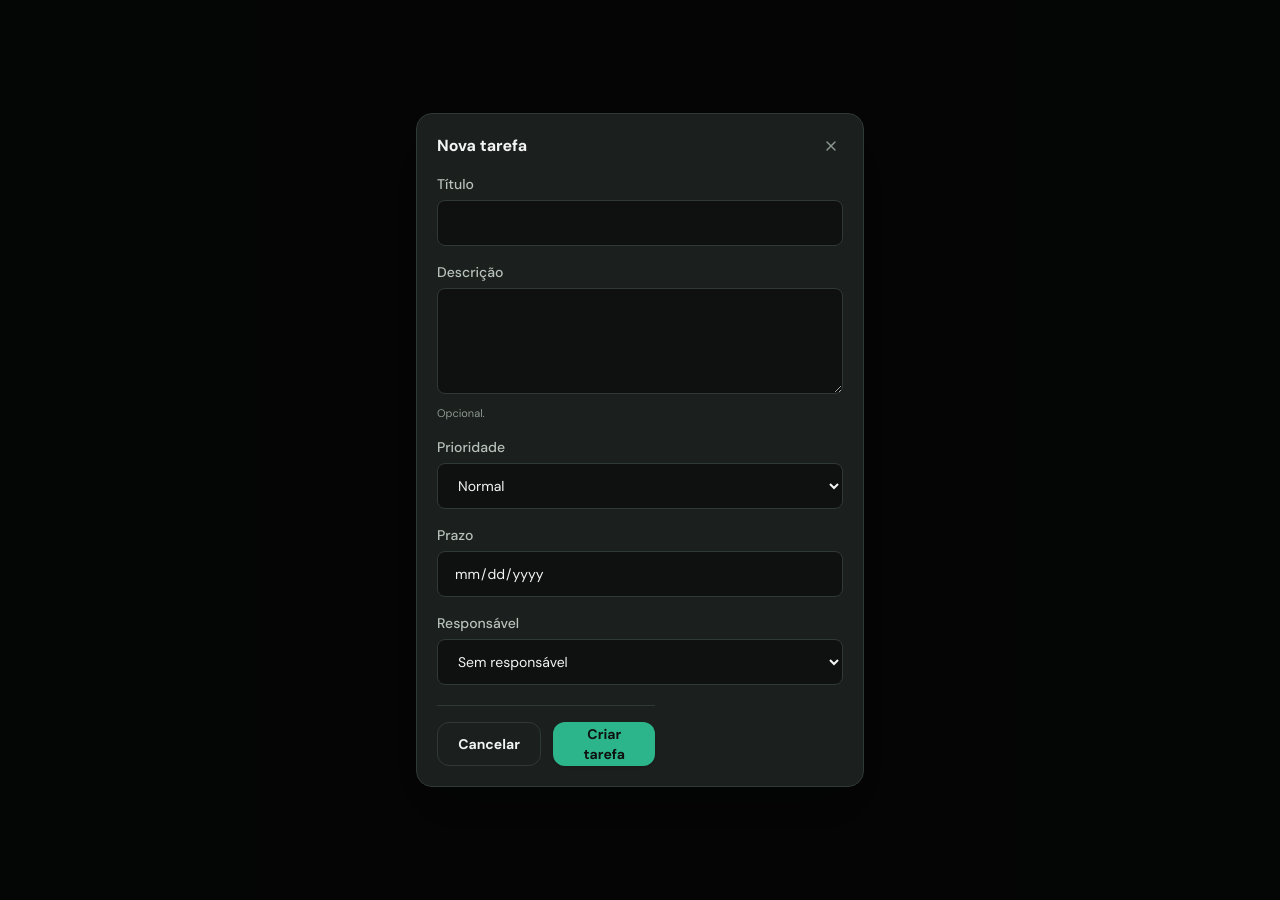
Test case: TaskFormDialog › mantém o formulário aberto e reporta erro da API
The image size is (1280, 900).
In the field labelled "Título": (640, 223) x1=437 y1=200 x2=843 y2=246, type "Tarefa"
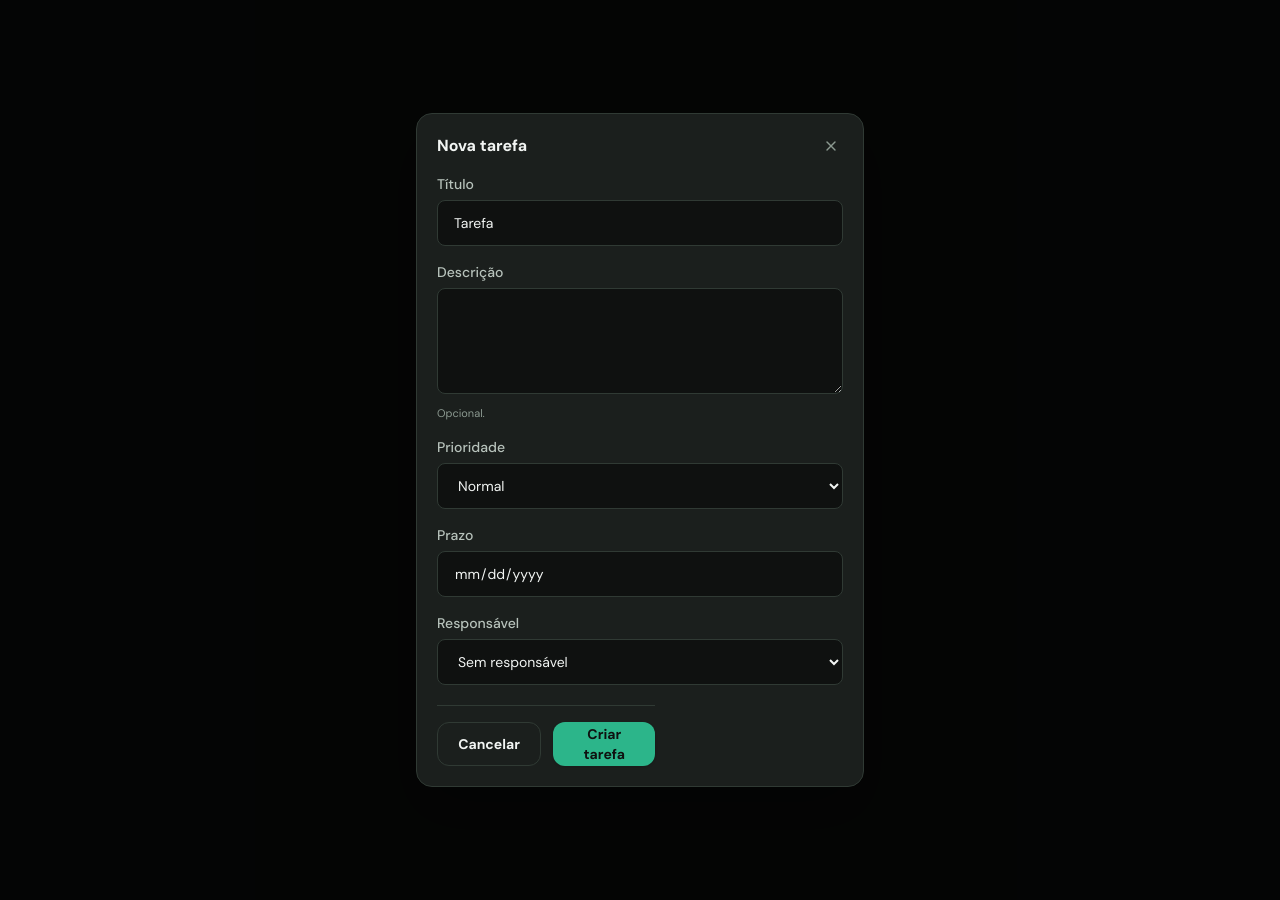
Click the button "Criar tarefa": (604, 744) x1=553 y1=722 x2=655 y2=766
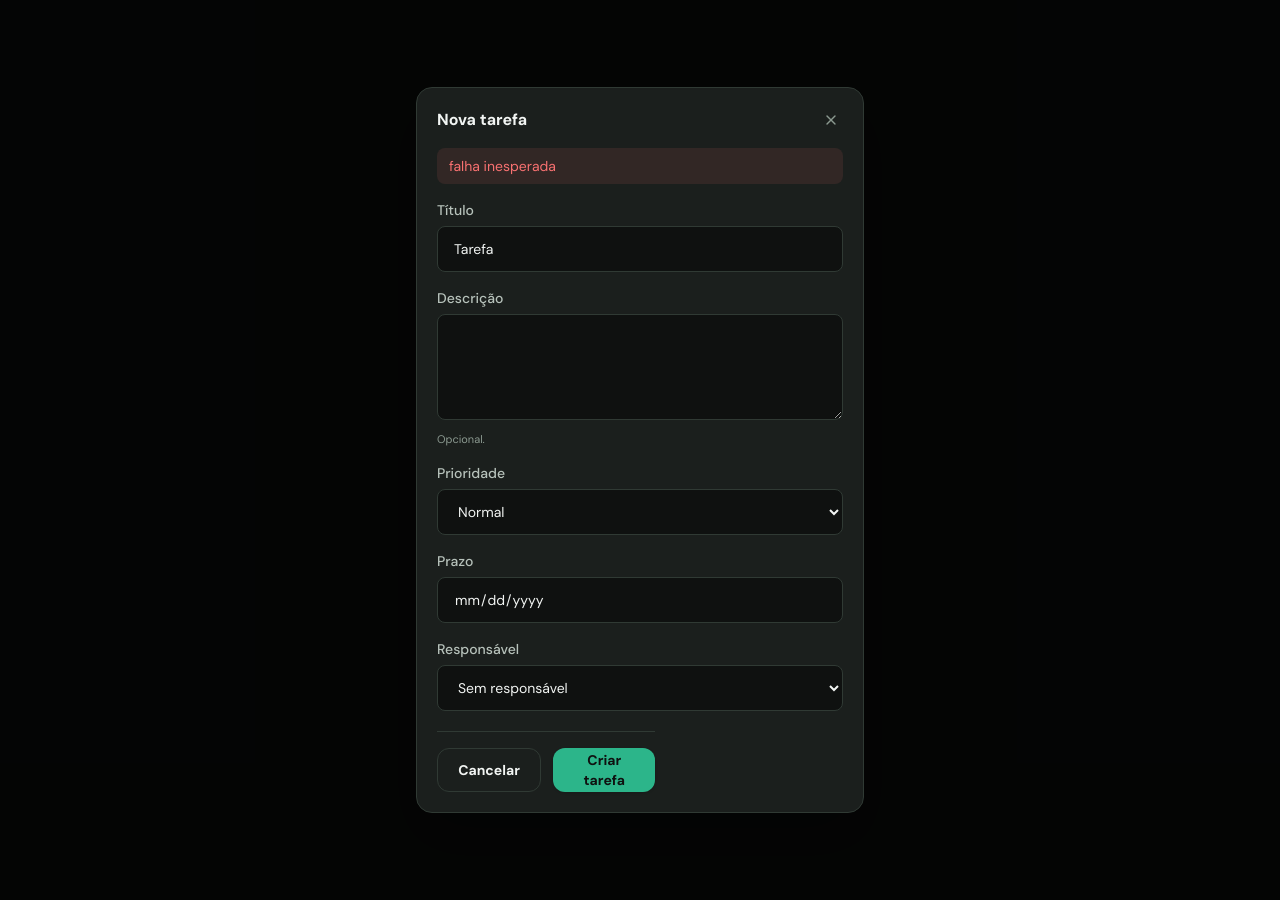
Check: the message "falha inesperada" is not empty, box x1=437 y1=148 x2=843 y2=184
